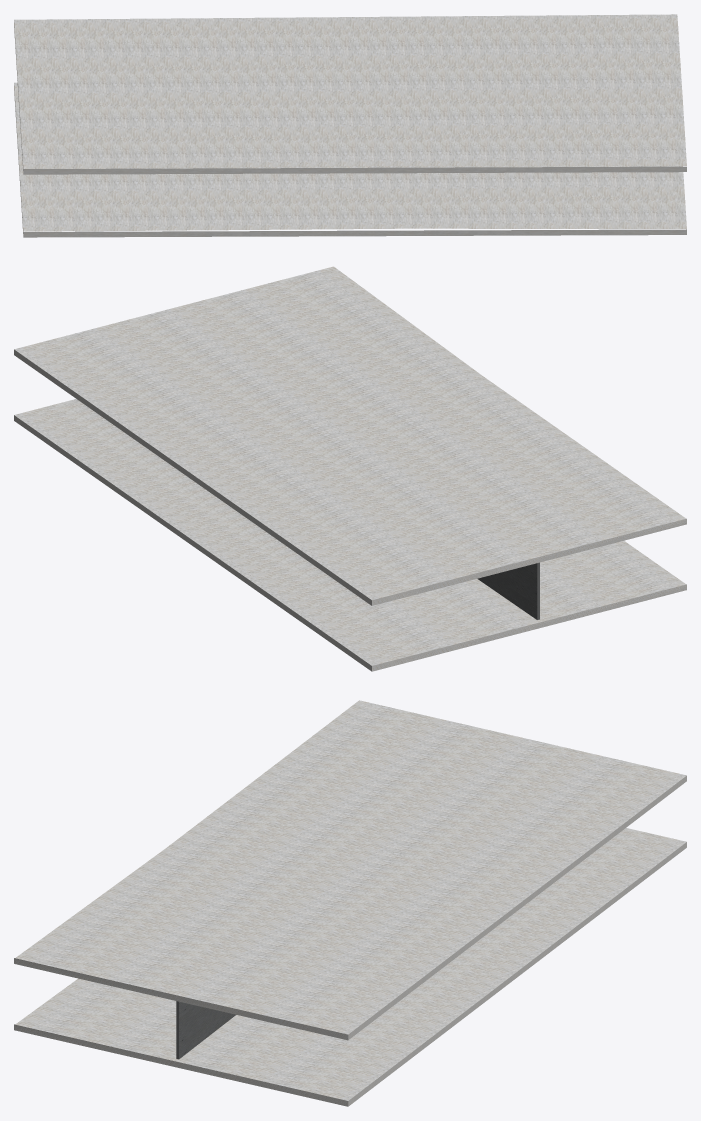
The model's file is shangchang3.gltf.
3 renders of one model, top to bottom at view 1: azimuth 30°, elevation 25°; view 2: azimuth 150°, elevation 25°; view 3: azimuth 270°, elevation 25°, orthographic. The views are drawn at different scales.
Visible parts, largest first — view 1: Box125, Box055; view 2: Box125, Box055, Box058; view 3: Box125, Box055, Box065.
Part boxes in pixels (x1,y1,x2,y2): Box125: (14, 14, 686, 174); Box055: (14, 82, 686, 237); Box125: (14, 266, 686, 605); Box055: (14, 399, 686, 671); Box058: (477, 562, 539, 619); Box125: (14, 700, 686, 1040); Box055: (14, 828, 686, 1106); Box065: (176, 1001, 235, 1059).
Size of the model in its own units: 492 by 49.73 by 418.
Materials: 12 (12 with a texture image).
